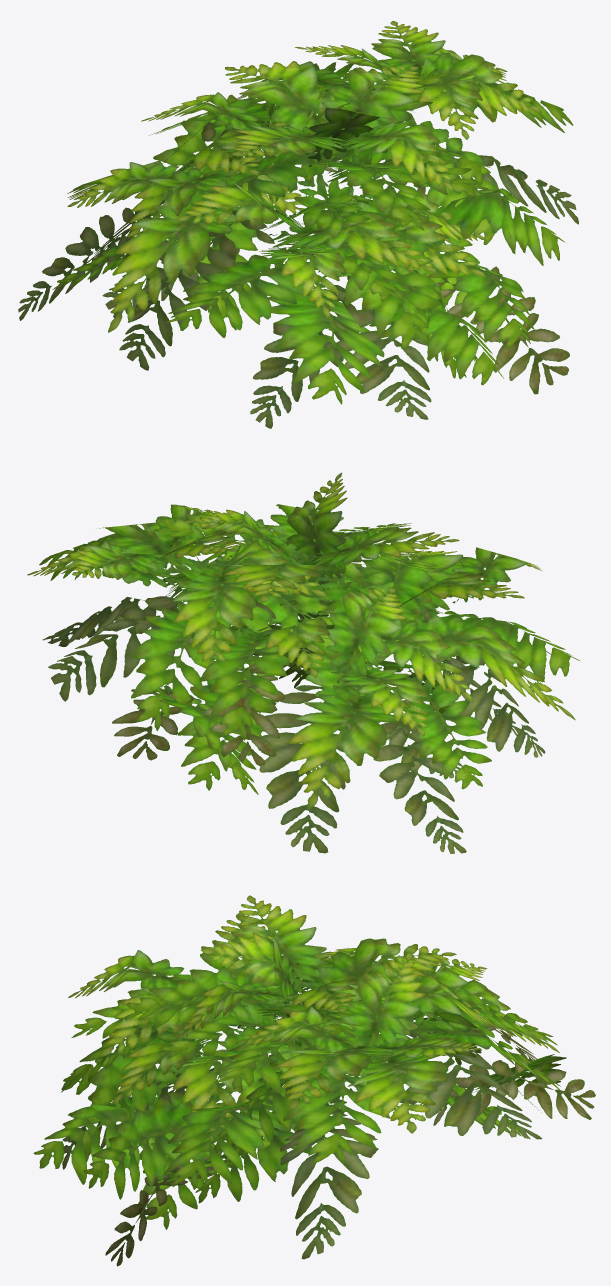
The model's file is zc_grass.FBX.
3 views of the same model, one above another, from view 1: azimuth 30°, elevation 25°; view 2: azimuth 150°, elevation 25°; view 3: azimuth 270°, elevation 25° (orthographic).
Parts seen in each view (by area): view 1: zc_grass_01; view 2: zc_grass_01; view 3: zc_grass_01.
Part boxes in pixels (bbox=[...]): zc_grass_01: bbox=[18, 21, 578, 428]; zc_grass_01: bbox=[27, 472, 580, 853]; zc_grass_01: bbox=[33, 895, 595, 1266].
Bounding box in the file's own units: 1308 × 1248 × 669.
